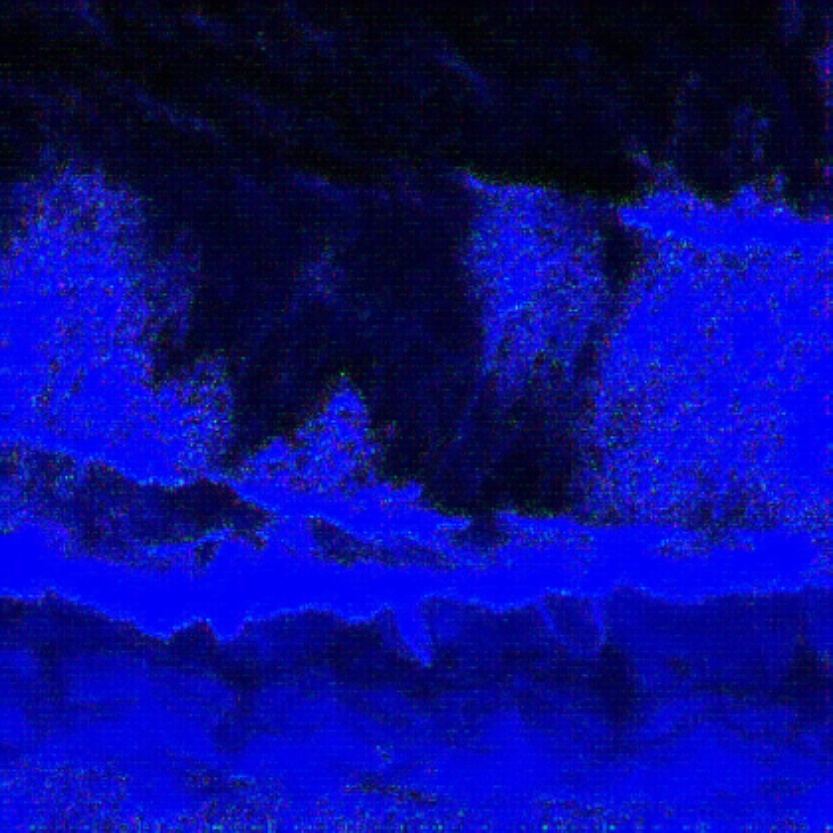rip_current: (297, 119, 605, 515)
